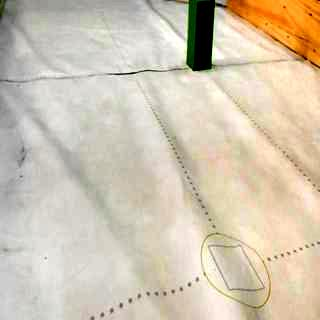greenbox: (186, 1, 215, 71)
